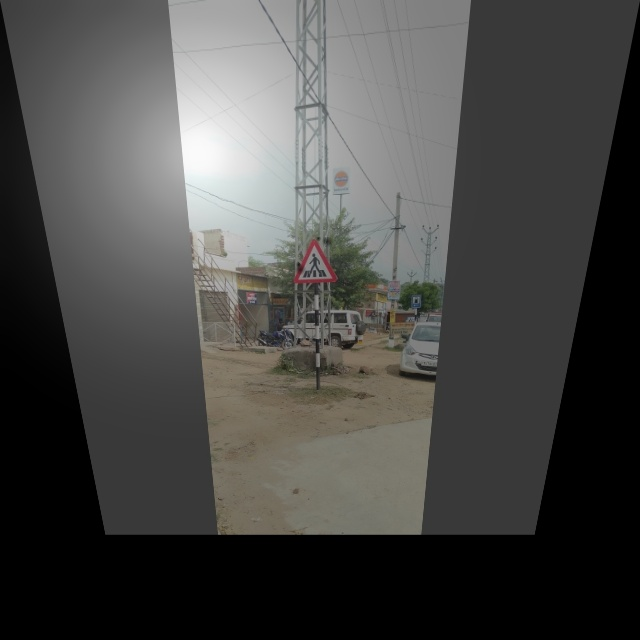Pedestrian_Crossing: (290, 237, 340, 287)
